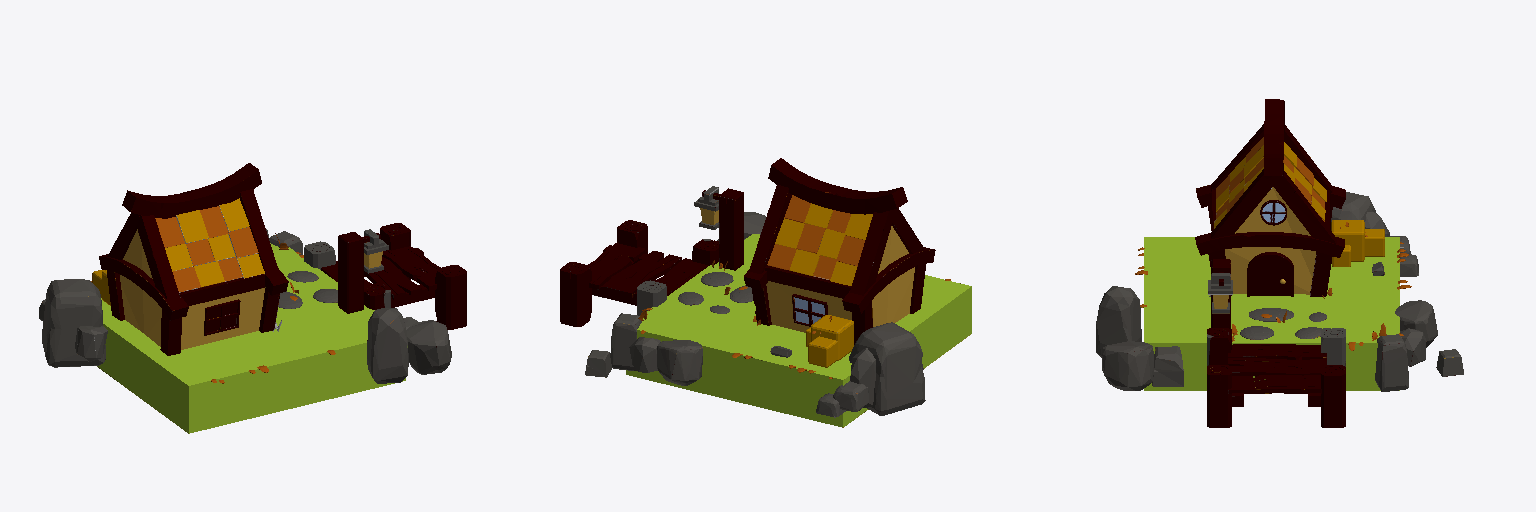
3 renders of one model, left to right at view 1: azimuth 30°, elevation 25°; view 2: azimuth 150°, elevation 25°; view 3: azimuth 270°, elevation 25°, orthographic.
Parts seen in each view (by area): view 1: Cubo.025; view 2: Cubo.025; view 3: Cubo.025.
Part boxes in pixels (bbox=[...]): Cubo.025: bbox=[39, 163, 466, 433]; Cubo.025: bbox=[560, 158, 971, 427]; Cubo.025: bbox=[1096, 99, 1463, 427].
Bounding box in the file's own units: 4.77 × 2.37 × 4.17.
1 materials, 1 textured.